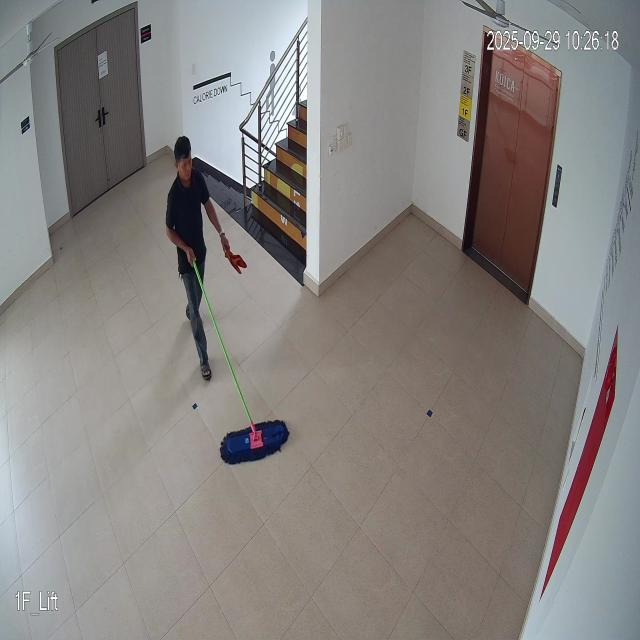face: (172, 138, 197, 186)
